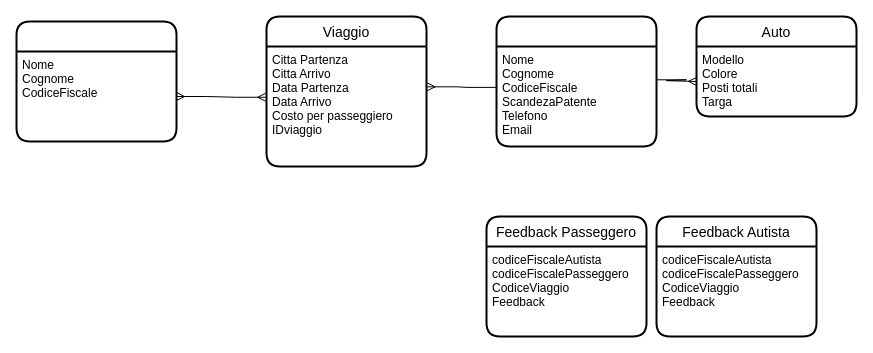
Some shapes in this 873 by 353 pixel diagram are drawn without their labels. Here are the shapes that lost their labels. From the top down, the box of each, then its label:
(15, 20, 177, 142): Passeggero
(495, 15, 657, 147): Autista
